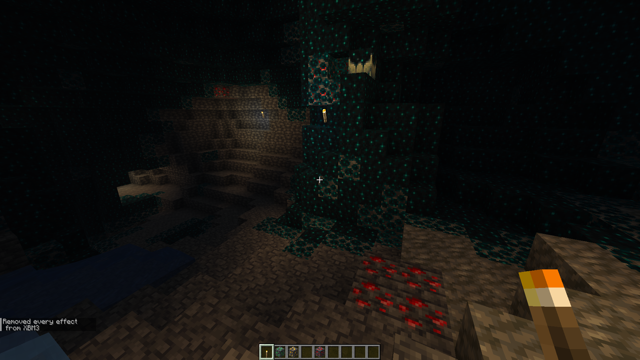redstone: (348, 255, 451, 333), (308, 56, 342, 103), (211, 84, 230, 100)
